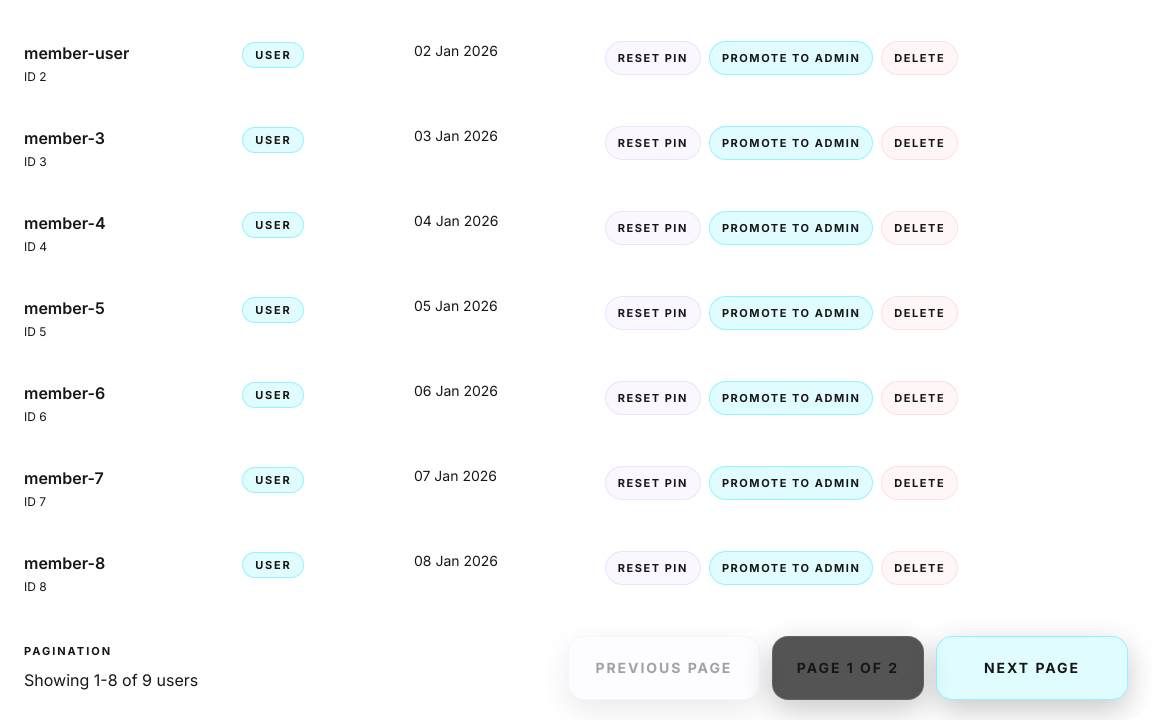
Test: AdminUsersPage › fetches the next page from the API when the pagination panel is used
(page scrolled)
Expected: the text "member-user" is shown, top-left (24, 42), bottom-right (129, 62)
Click the button "Next Page" at (1032, 668), box top-left (936, 636), bottom-right (1128, 700)
(page scrolled)
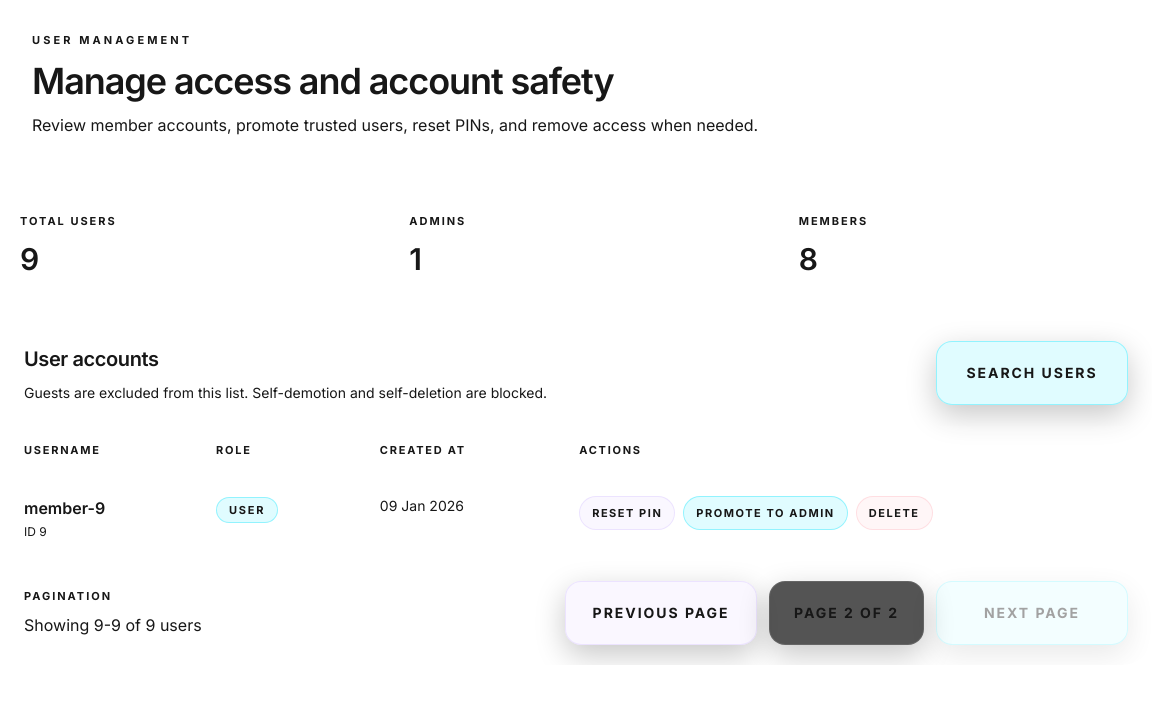
Now the text "member-9" is shown, box top-left (24, 498), bottom-right (105, 518)
Now the text "member-user" is gone
Now the text "Showing 9-9 of 9 users" is shown, box top-left (24, 613), bottom-right (202, 637)
